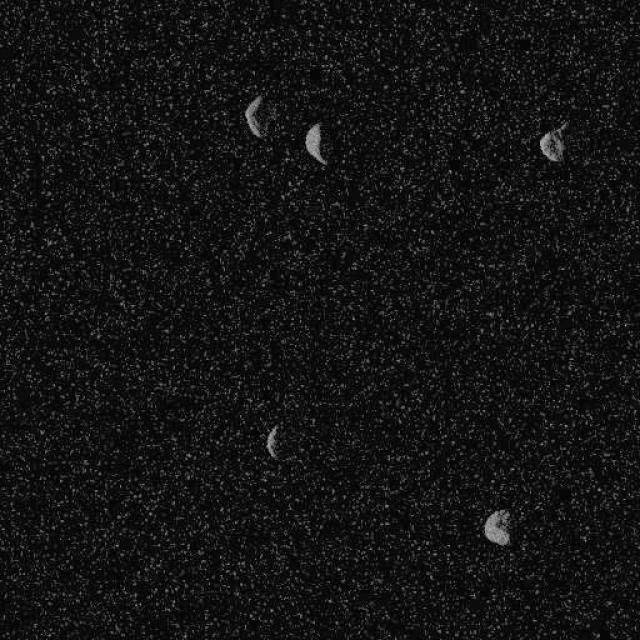D2: (538, 120, 568, 162), (482, 508, 512, 546), (304, 121, 328, 165), (244, 94, 265, 138), (264, 422, 280, 460)
